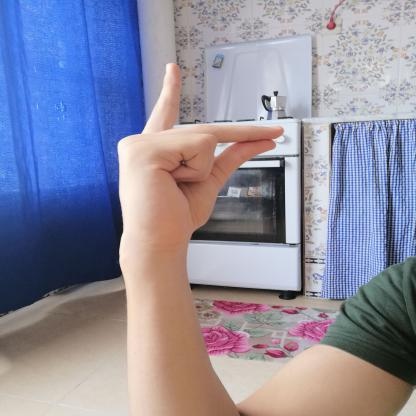TAA: (101, 55, 296, 253)
